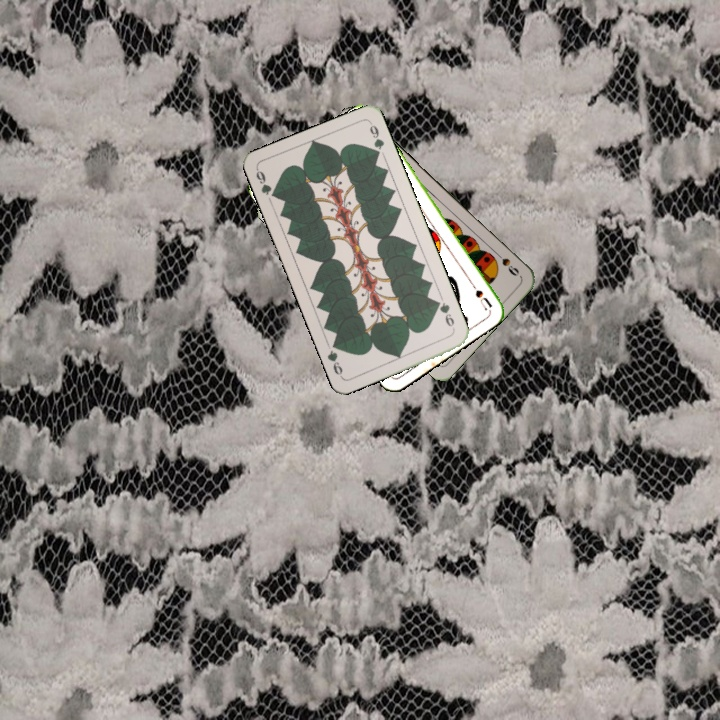G9: (252, 165, 280, 201), (431, 296, 458, 333)
S9: (490, 247, 522, 279)
SU: (464, 275, 495, 312)
